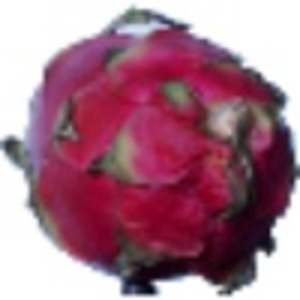pitaia: (1, 2, 300, 299)
